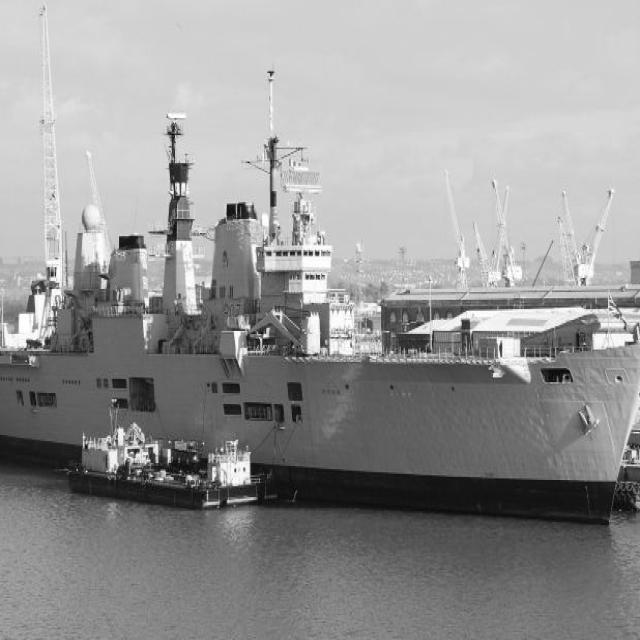Portanaves: (1, 77, 640, 537)
